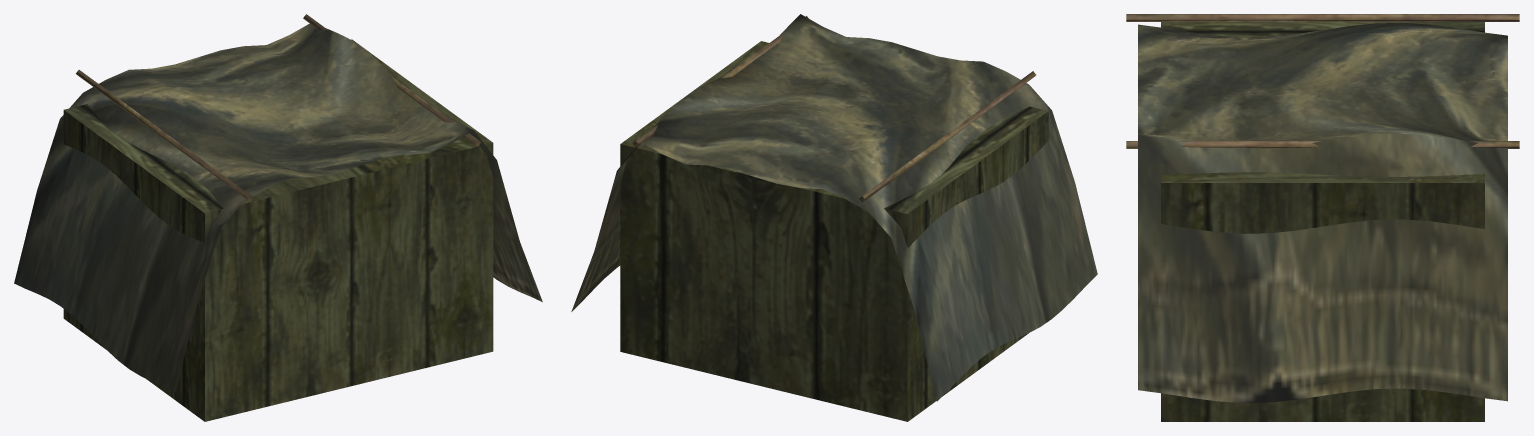
The model's file is Tarp_Covered_Stack.glb.
3 views of the same model, side by side, from view 1: azimuth 30°, elevation 25°; view 2: azimuth 150°, elevation 25°; view 3: azimuth 270°, elevation 25° (orthographic). The views are drawn at different scales.
Visible parts, largest first — view 1: Tarp_Covered_Stack; view 2: Tarp_Covered_Stack; view 3: Tarp_Covered_Stack.
Part boxes in pixels (box(x1,y1,x2,y2)): Tarp_Covered_Stack: box(14, 14, 542, 421); Tarp_Covered_Stack: box(571, 14, 1097, 421); Tarp_Covered_Stack: box(1126, 14, 1519, 421).
Bounding box in the file's own units: 2.1 × 1.3 × 1.7.
1 material, 1 textured.
